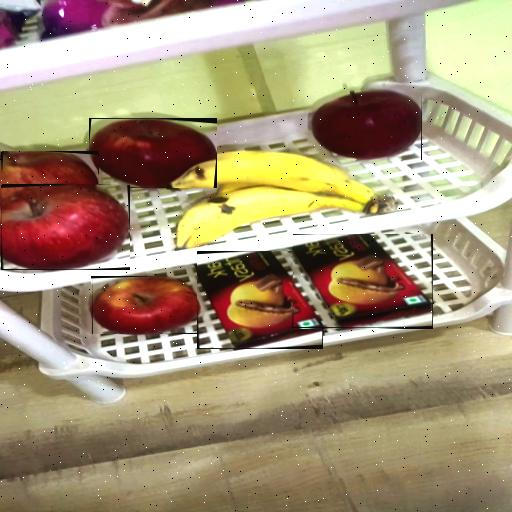Apple: (1, 185, 130, 269), (89, 119, 217, 188), (311, 91, 421, 160), (92, 276, 199, 334), (2, 152, 97, 193)
Choco Fills: (293, 234, 432, 328), (197, 251, 322, 349)
